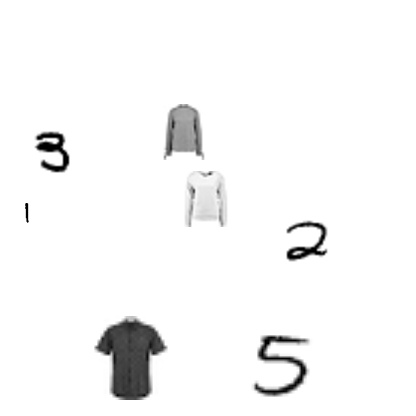0: (112, 313, 140, 341)
3: (192, 372, 220, 400)
6: (212, 304, 234, 326)
9: (28, 202, 84, 258), (15, 317, 43, 345), (16, 211, 30, 225)
Bag: (44, 86, 66, 108)
Dress: (353, 148, 409, 204), (188, 253, 230, 295)
Sneaker: (155, 143, 267, 255)
